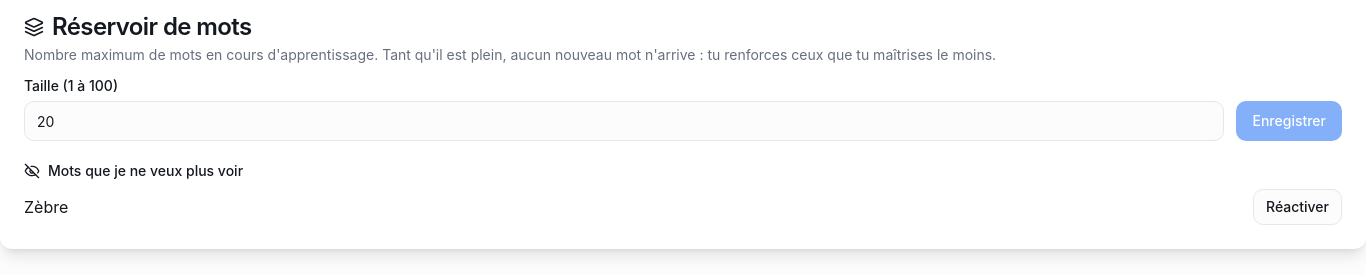
Test: ReservoirSettings — mots ignorés › Réactiver : écrit un statut actif à 0/3, retire le mot de la liste et confirme
The width and height of the screenshot is (1366, 275).
Click the button with test id "reactivate-w1".
click(1298, 207)  # box 1253,189 -> 1342,225
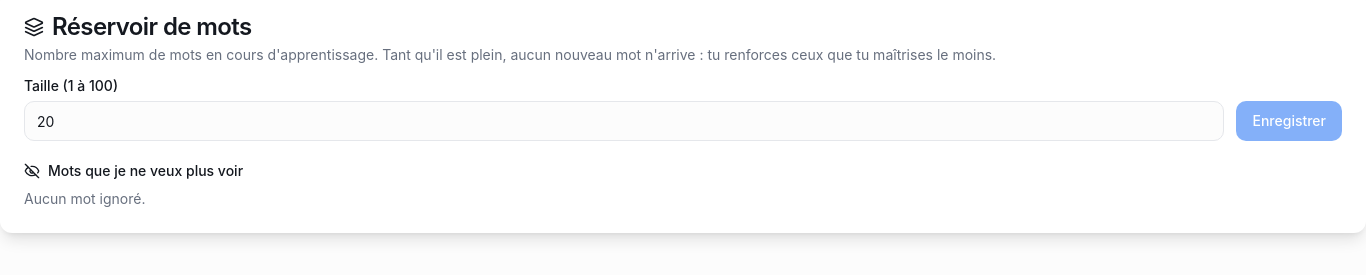
Expected: the list item with test id "ignored-item-w1" is gone
